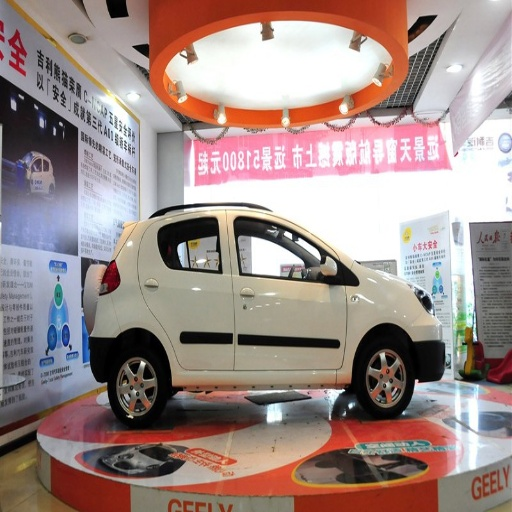back_right_door: (141, 210, 234, 375)
front_right_door: (230, 211, 347, 377)
